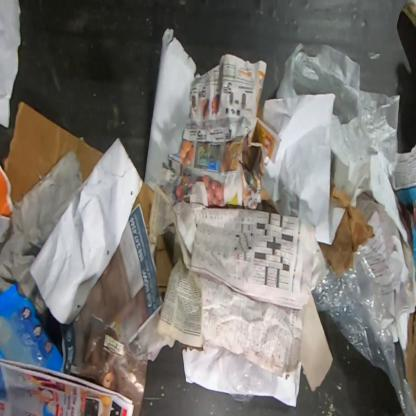cardboard: (3, 100, 103, 206), (0, 284, 63, 374), (318, 184, 372, 275), (155, 234, 173, 294), (134, 184, 155, 232), (0, 161, 13, 218), (402, 0, 415, 30)
soft_plastic: (312, 192, 415, 415), (276, 41, 400, 183), (226, 352, 266, 403)
